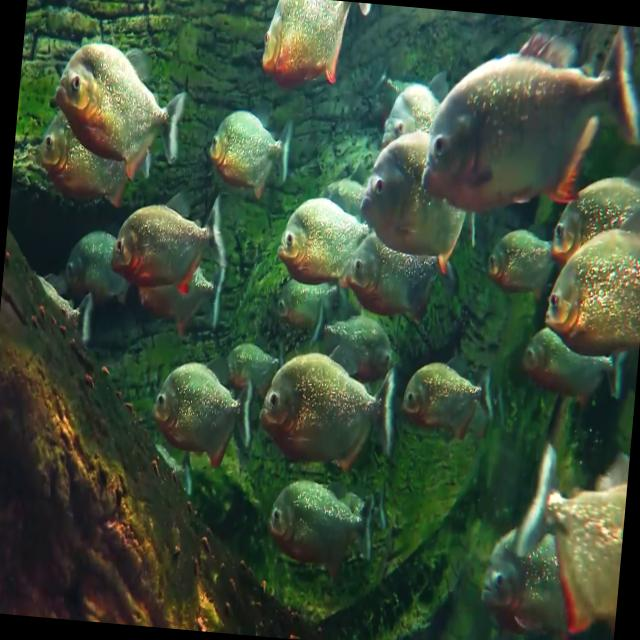fish: (419, 9, 640, 217), (253, 346, 401, 478), (354, 126, 484, 274), (51, 38, 188, 176), (482, 510, 598, 636), (34, 106, 158, 211), (542, 225, 640, 356), (108, 181, 225, 288), (147, 362, 254, 476), (260, 474, 376, 562), (520, 318, 632, 400), (274, 196, 371, 290), (483, 214, 589, 298), (548, 165, 640, 259), (204, 108, 295, 199), (257, 0, 349, 85), (399, 358, 485, 441), (60, 218, 135, 313)
